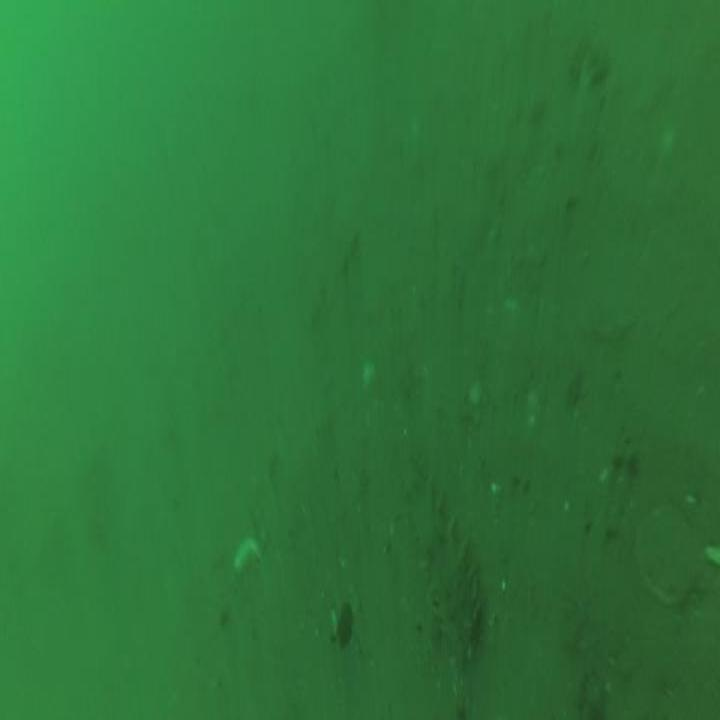holothurian: (400, 469, 483, 663)
scallop: (633, 503, 700, 606)
